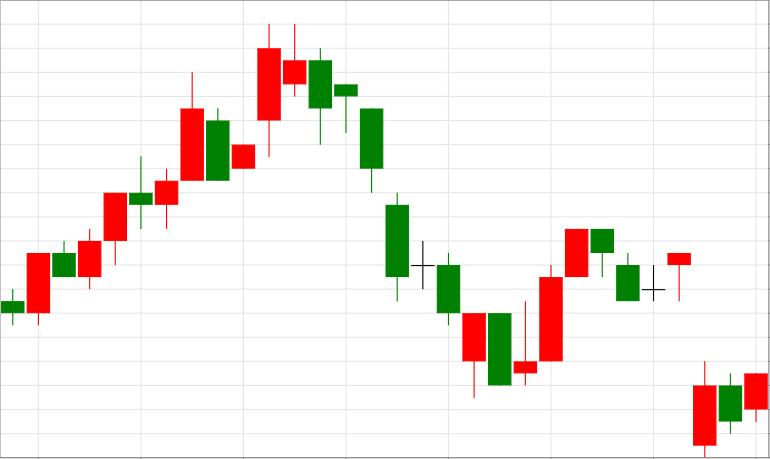shooting_star_fall: (79, 23, 306, 289)
